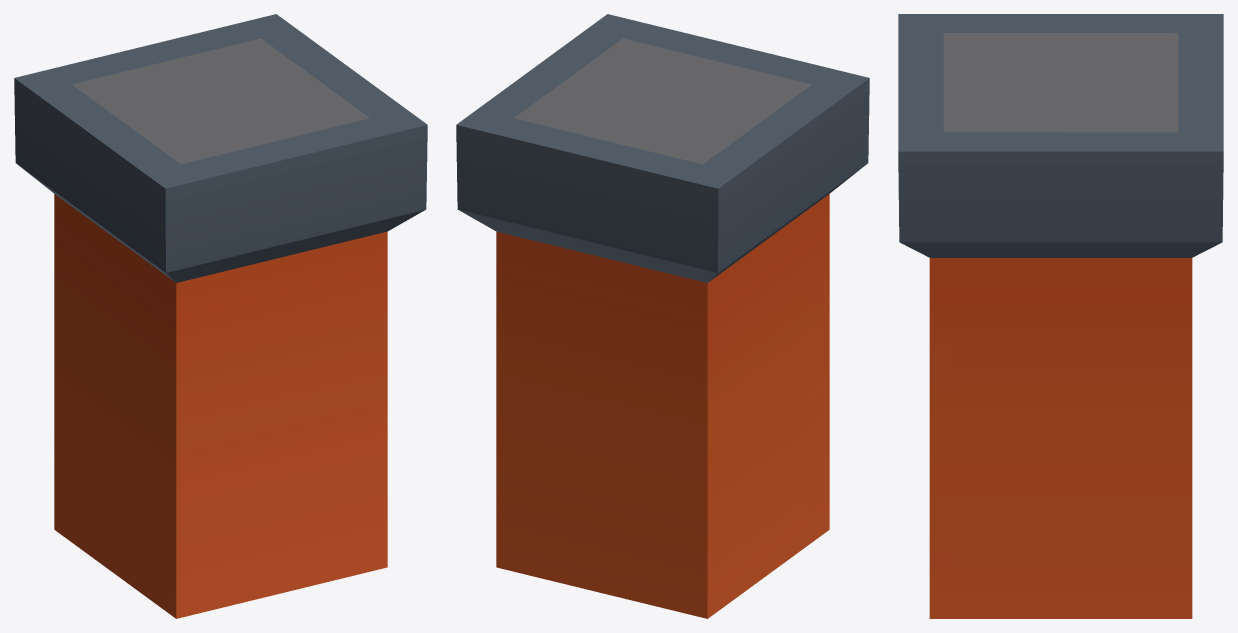
The model's file is Chimney_2_B_1.fbx.
3 views of the same model, side by side, from view 1: azimuth 30°, elevation 25°; view 2: azimuth 150°, elevation 25°; view 3: azimuth 270°, elevation 25° (orthographic). The views are drawn at different scales.
Parts seen in each view (by area): view 1: Chimney_2_B_1; view 2: Chimney_2_B_1; view 3: Chimney_2_B_1.
Boxes of the visible parts, <box> form: Chimney_2_B_1: <box>14,14,427,618</box>; Chimney_2_B_1: <box>456,14,869,618</box>; Chimney_2_B_1: <box>898,14,1223,618</box>.
Size of the model in its own units: 63.29 by 103 by 63.29.
